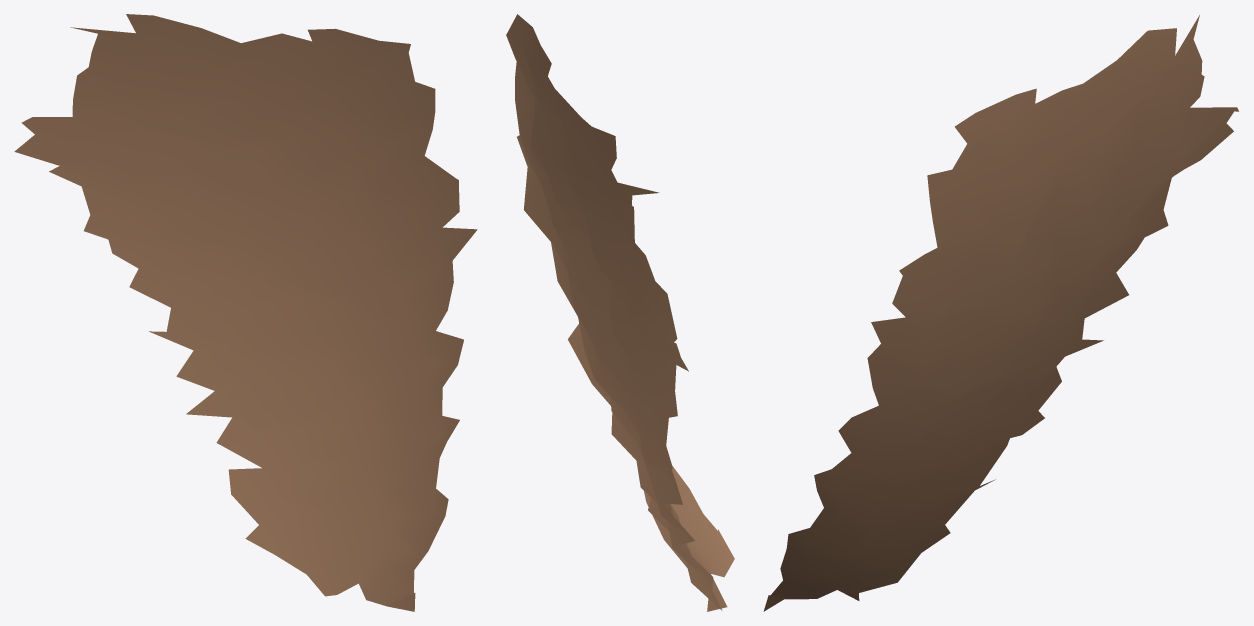
Rendered from pottery_fragment_030.obj.
3 views of the same model, side by side, from view 1: azimuth 30°, elevation 25°; view 2: azimuth 150°, elevation 25°; view 3: azimuth 270°, elevation 25° (orthographic). The views are drawn at different scales.
Bounding box in the file's own units: 16.9 × 26.93 × 21.35.
